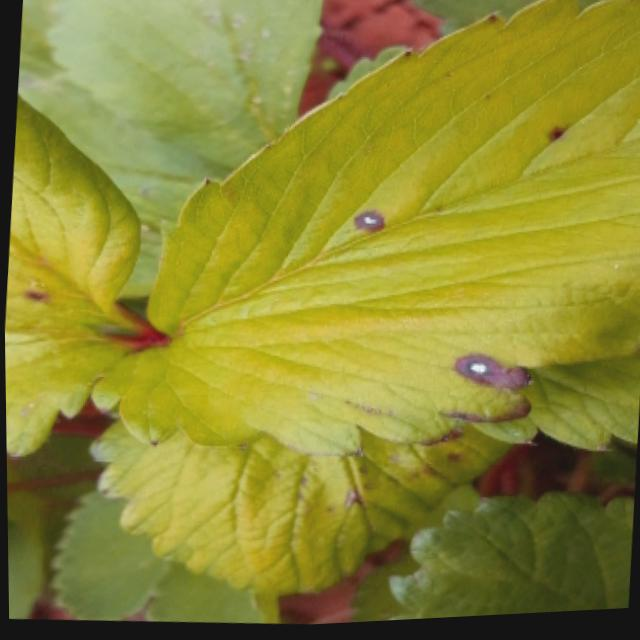Leaf Spot: (115, 0, 640, 462), (85, 419, 516, 601), (4, 94, 152, 463), (17, 0, 60, 83)
